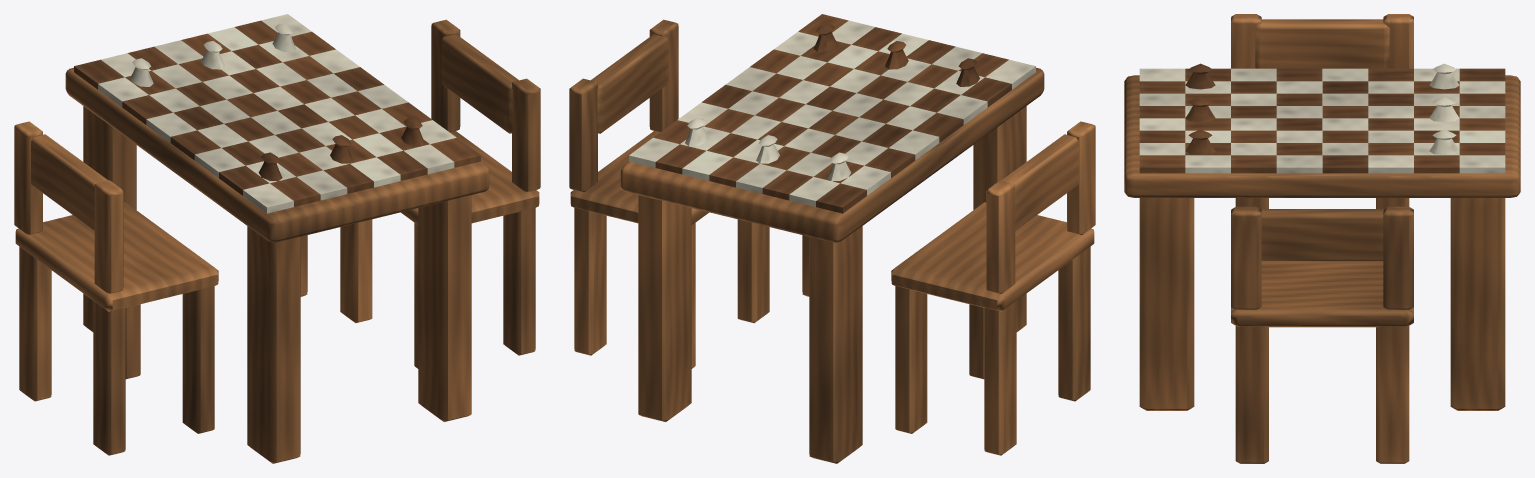
File: Furn_Life_ChessTable.fbx
3 views of the same model, side by side, from view 1: azimuth 30°, elevation 25°; view 2: azimuth 150°, elevation 25°; view 3: azimuth 270°, elevation 25° (orthographic). The views are drawn at different scales.
Parts seen in each view (by area): view 1: Furn_Life_ChessTable; view 2: Furn_Life_ChessTable; view 3: Furn_Life_ChessTable.
Boxes of the visible parts, <box> form: Furn_Life_ChessTable: <box>14,14,540,463</box>; Furn_Life_ChessTable: <box>569,14,1095,463</box>; Furn_Life_ChessTable: <box>1124,14,1520,463</box>.
Size of the model in its own units: 1.2 by 0.75 by 1.
3 materials, 3 textured.
